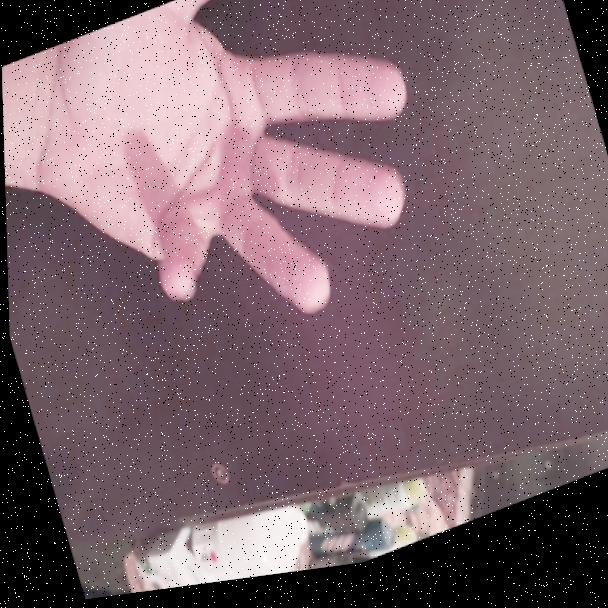five: (32, 0, 454, 397)
